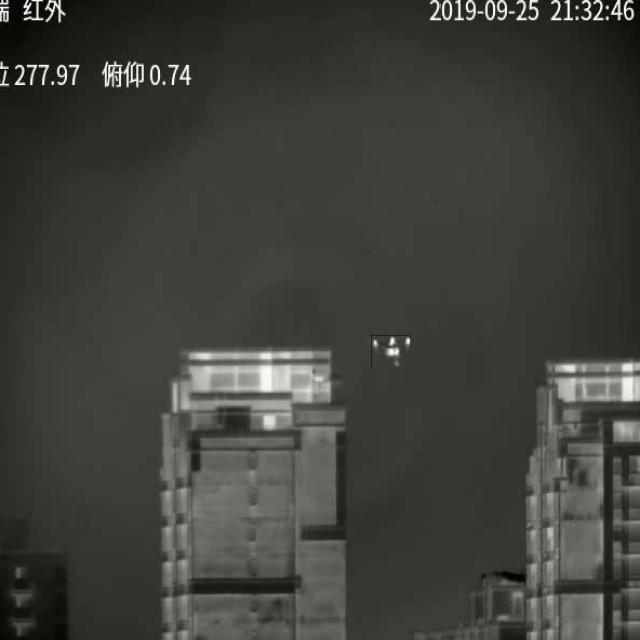drone: (371, 335, 410, 368)
